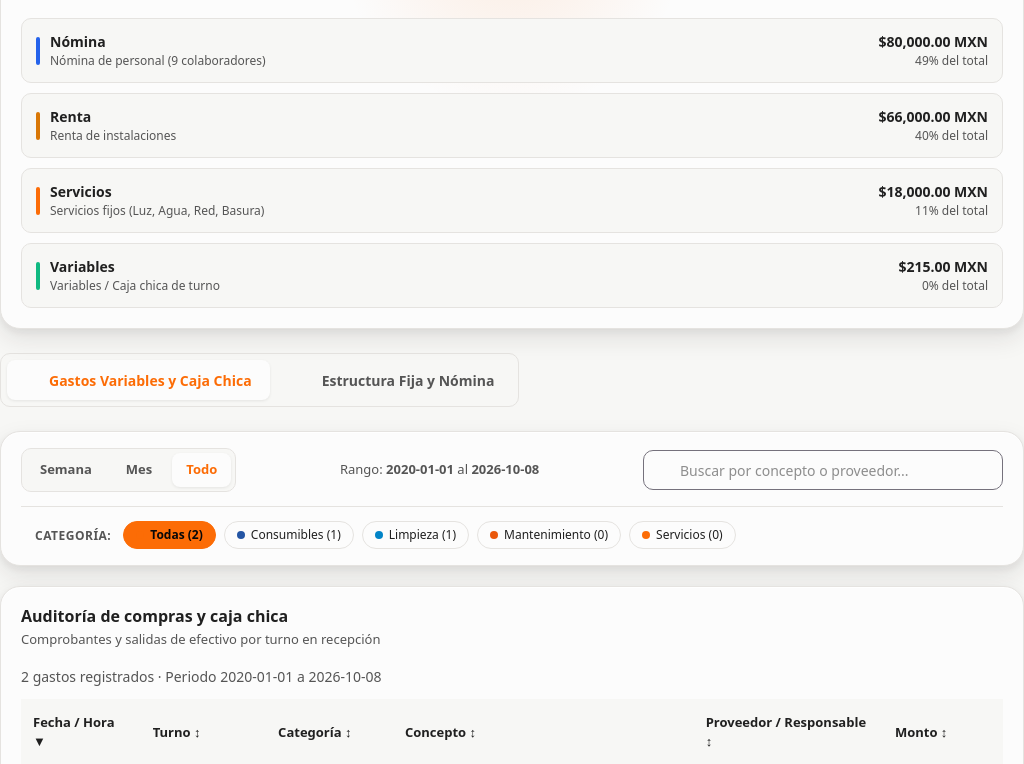
Test case: ExpenseReport component › renders the fixed costs breakdown cards and 9-member payroll table in the Fixed tab
(page scrolled)
Click the tab "Estructura Fija y Nómina".
click(396, 380)  # box [280,360,512,400]
(page scrolled)
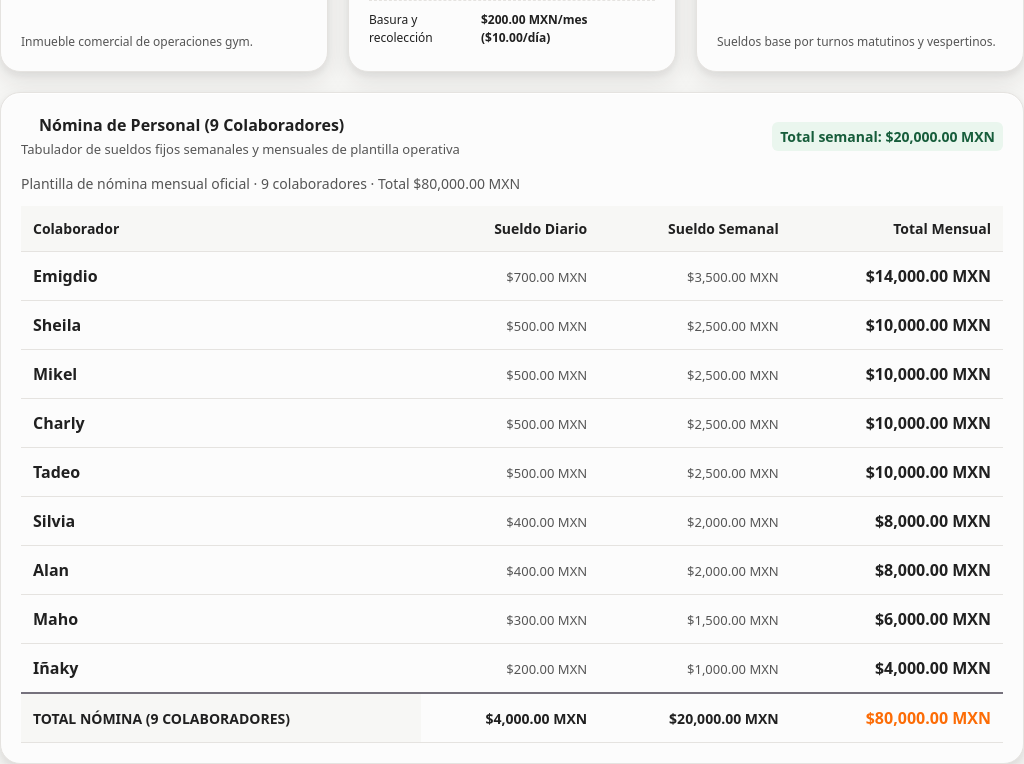
Check: the text "Basura y recolección" is shown, box [369,11,433,46]
Check: the text "$200.00 MXN/mes ($10.00/día)" is shown, box [481,11,588,46]
Check: the text "Silvia" is shown, box [33,510,75,532]
